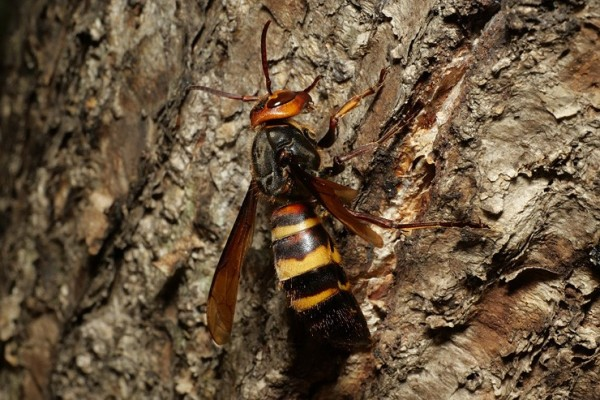asian_giant_hornet: (183, 78, 390, 345)
